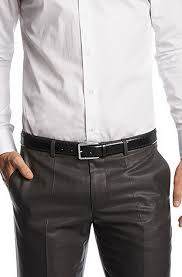F_belt: (14, 127, 164, 163)
F_dress pants: (10, 148, 176, 275)
